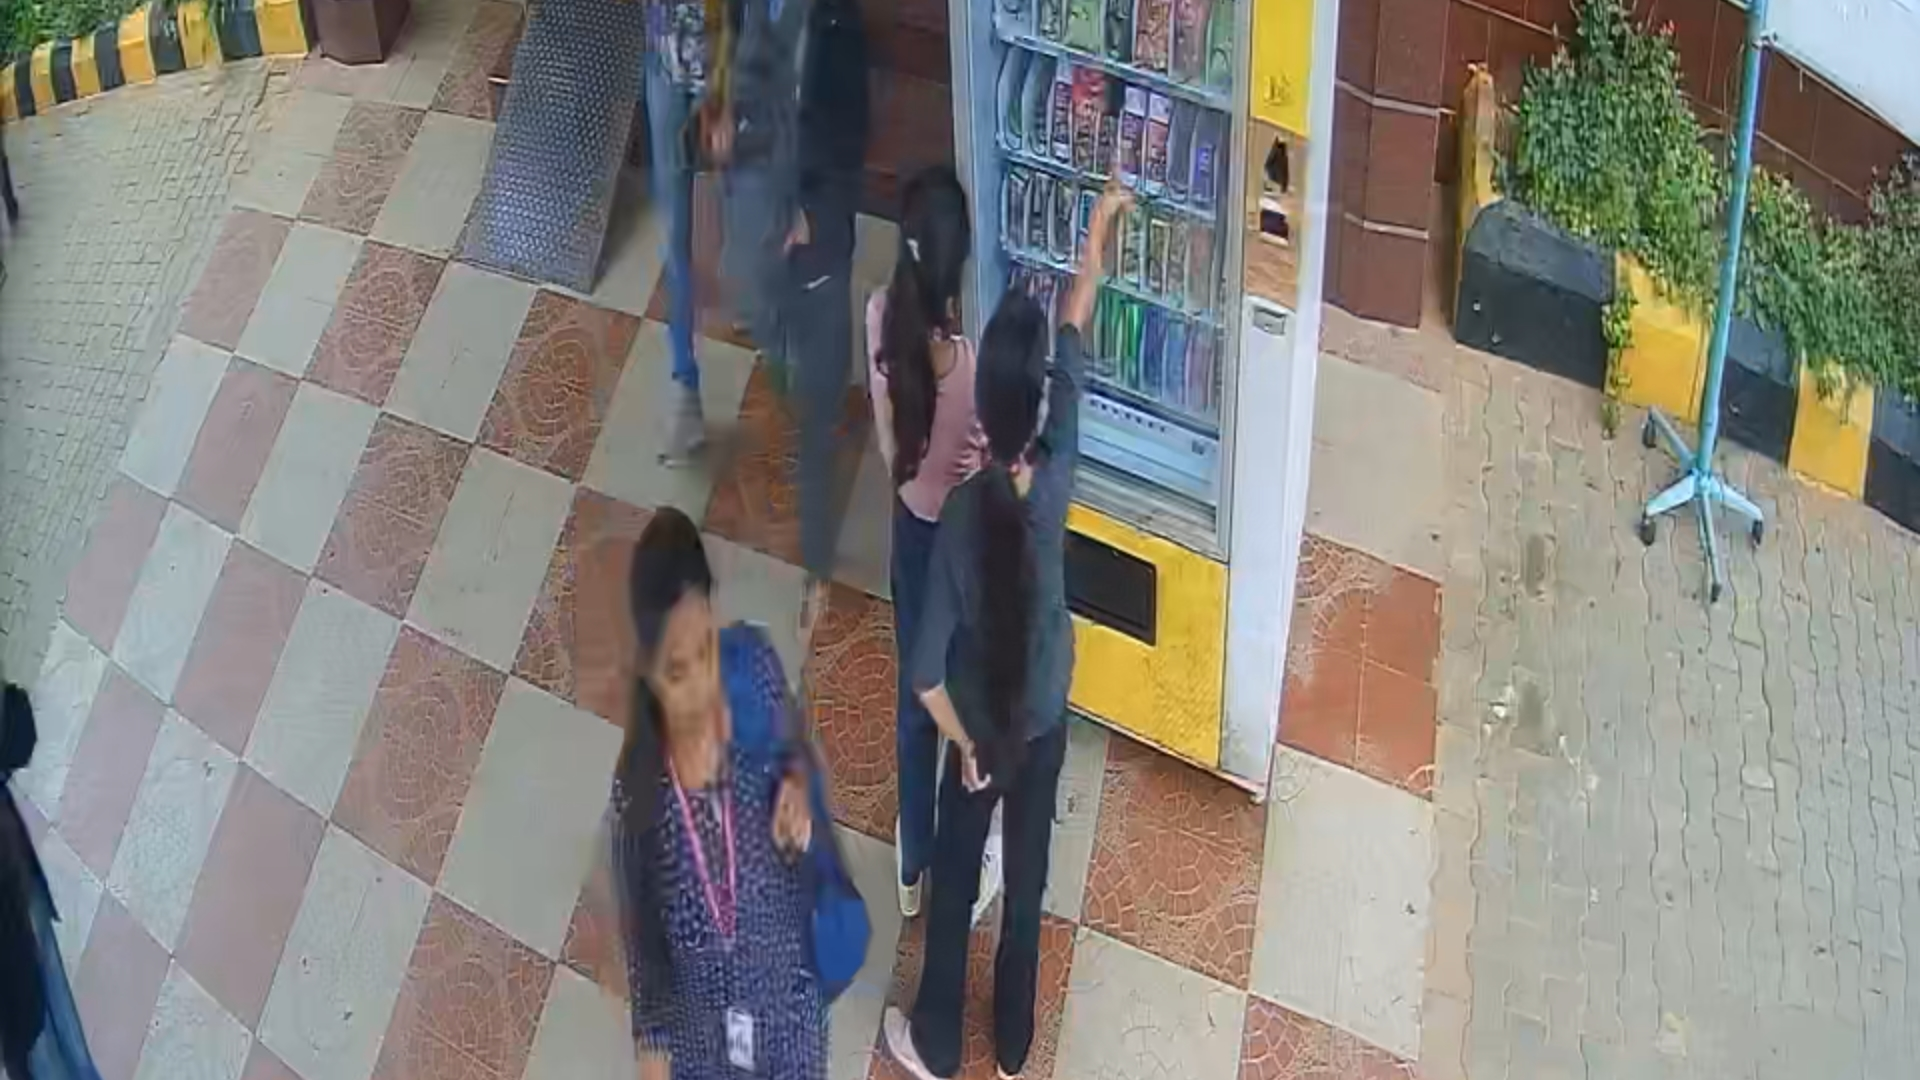not intruder: (589, 485, 890, 1080)
